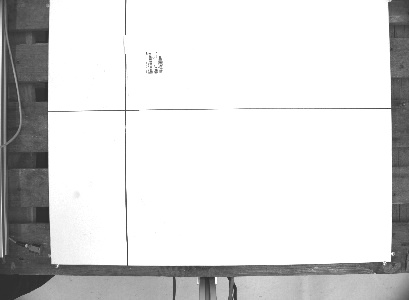t3: (120, 30, 197, 111)
